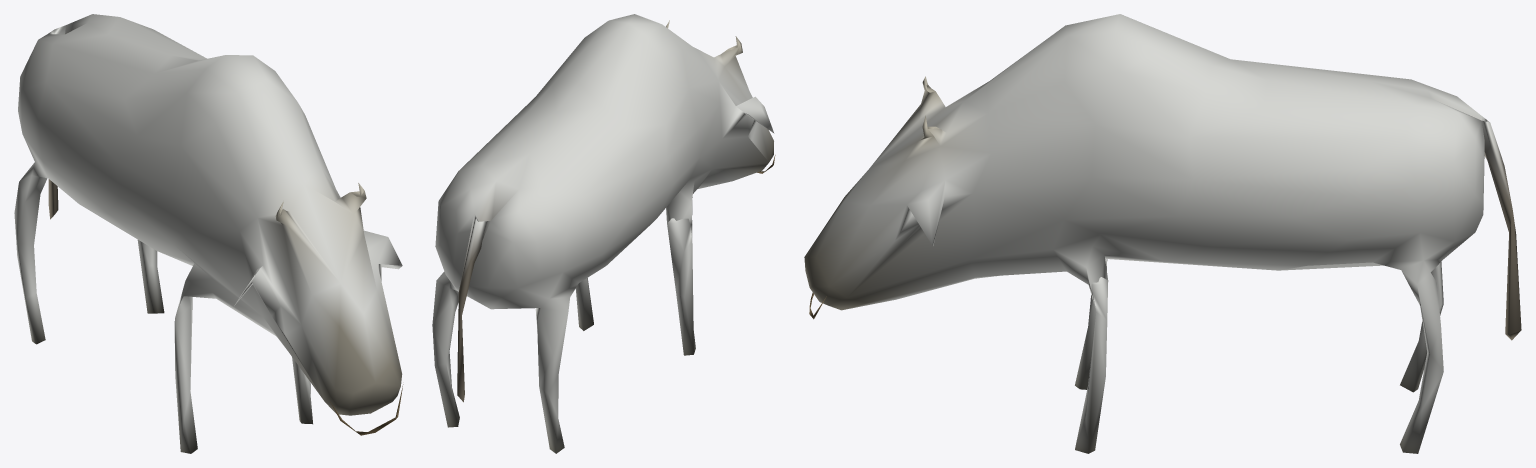
File: cattle-1.glb
3 renders of one model, left to right at view 1: azimuth 30°, elevation 25°; view 2: azimuth 150°, elevation 25°; view 3: azimuth 270°, elevation 25°, orthographic. The views are drawn at different scales.
Parts seen in each view (by area): view 1: cattle; view 2: cattle; view 3: cattle.
Boxes of the visible parts, <box> form: cattle: <box>14,14,403,453</box>; cattle: <box>432,14,775,453</box>; cattle: <box>804,14,1521,453</box>.
Bounding box in the file's own units: 0.7487 × 1.52 × 2.45.
